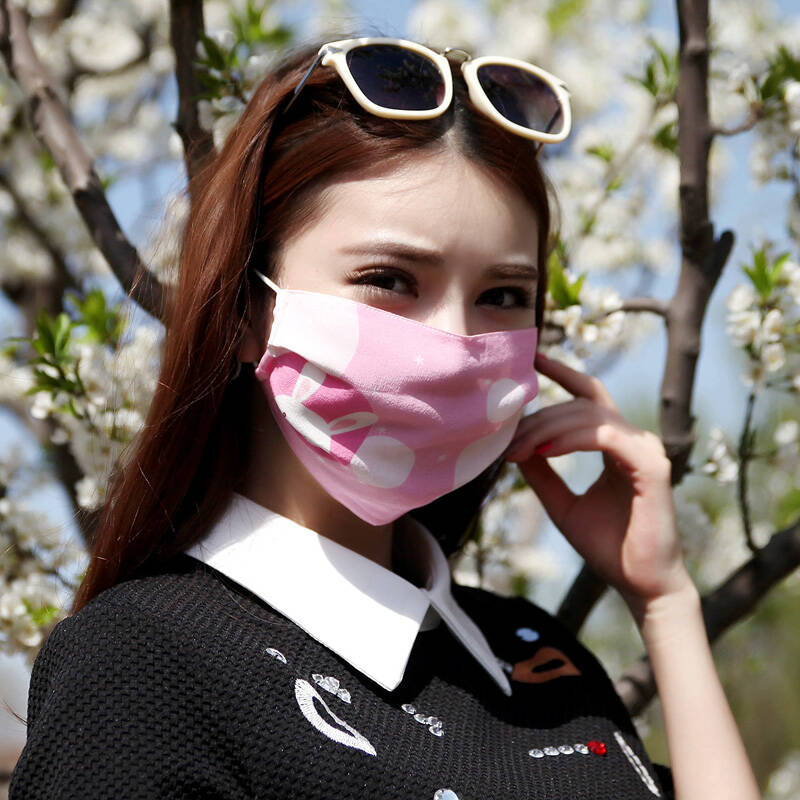face_mask: (268, 146, 536, 522)
